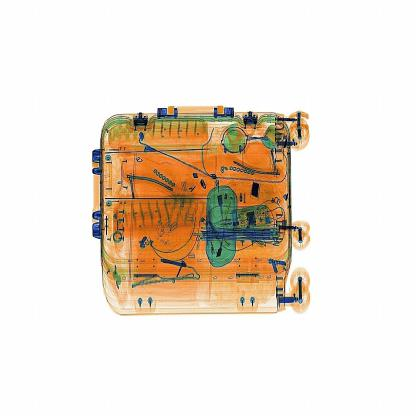wrench: (242, 168, 267, 199)
